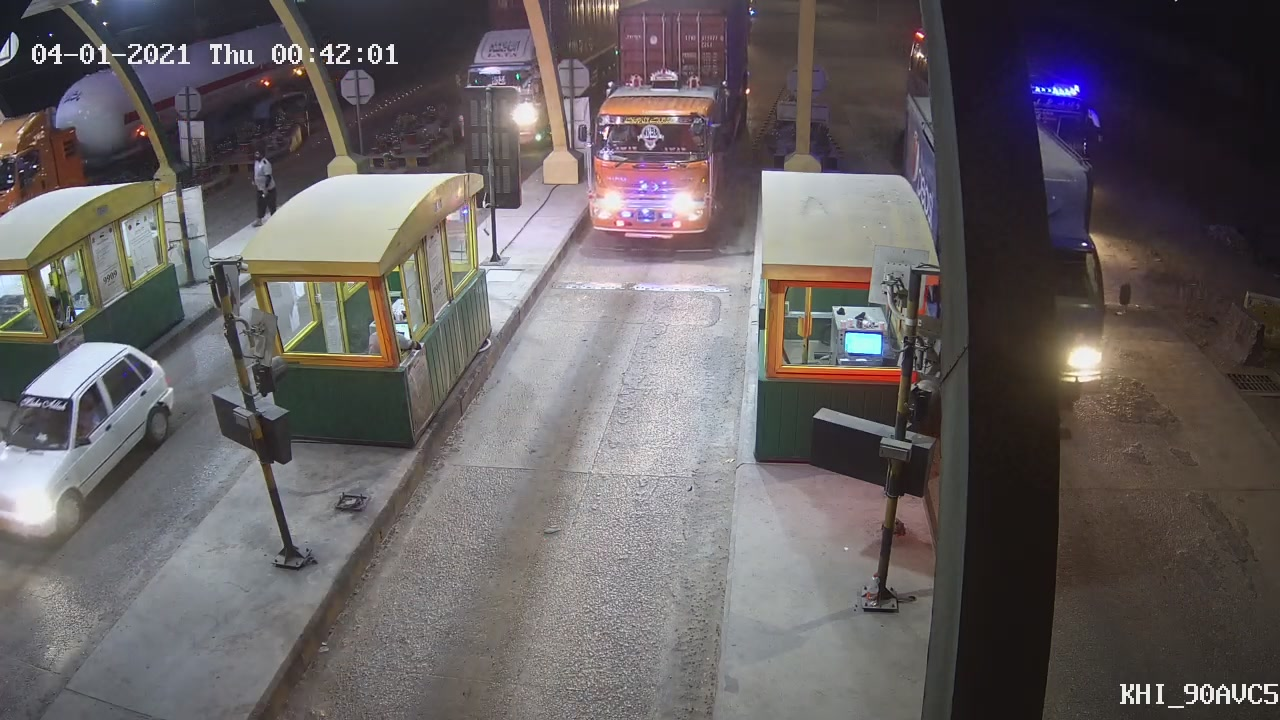F5: (581, 6, 754, 258)
